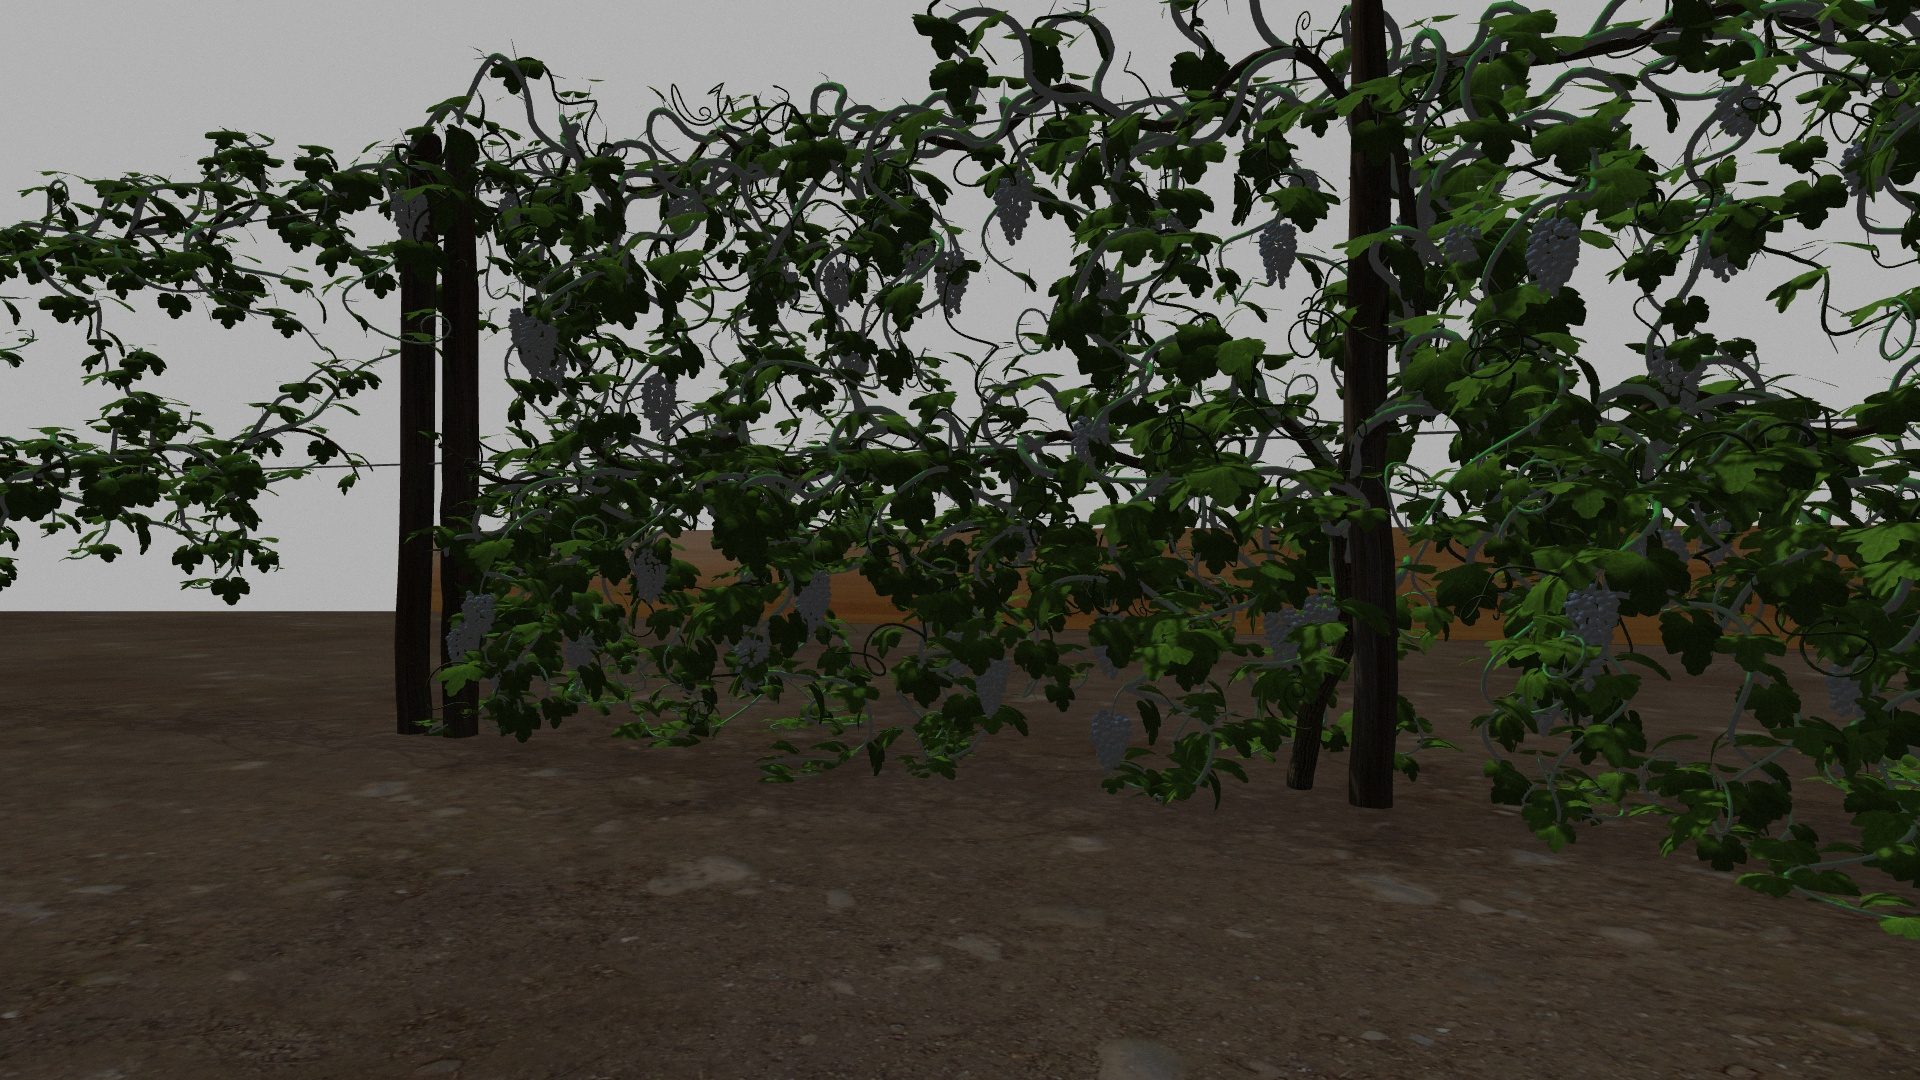grape: (1564, 583, 1621, 694), (1524, 210, 1582, 294), (506, 306, 556, 378), (1652, 347, 1708, 410), (993, 169, 1034, 247), (1826, 663, 1879, 717), (793, 566, 833, 633), (934, 248, 971, 322), (1069, 413, 1112, 475), (1259, 223, 1298, 289), (389, 186, 431, 244), (973, 658, 1013, 717), (1263, 607, 1303, 665), (1089, 709, 1127, 769), (640, 372, 676, 431), (632, 547, 669, 607), (1716, 88, 1760, 136), (822, 261, 857, 311), (462, 589, 495, 638), (1444, 223, 1482, 262), (444, 629, 480, 665), (733, 634, 770, 669), (564, 632, 597, 669), (1302, 595, 1340, 626)
